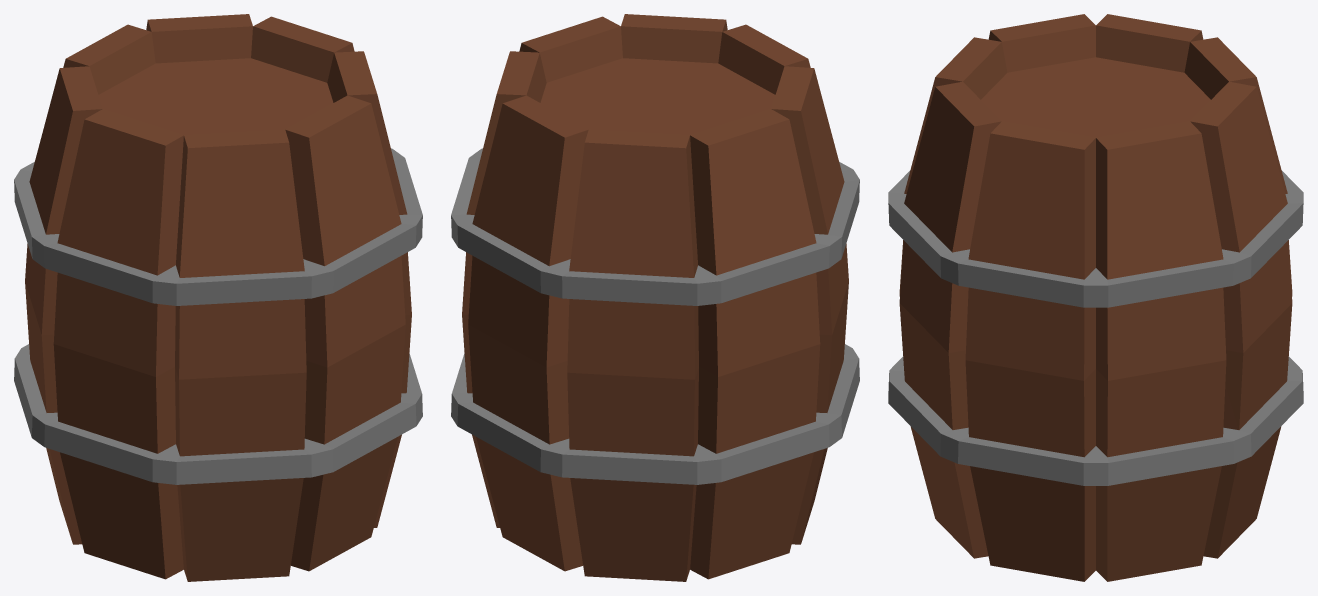
File: barrel.glb
3 views of the same model, side by side, from view 1: azimuth 30°, elevation 25°; view 2: azimuth 150°, elevation 25°; view 3: azimuth 270°, elevation 25° (orthographic).
Parts seen in each view (by area): view 1: Barrel; view 2: Barrel; view 3: Barrel.
Boxes of the visible parts, bbox=[...] form: Barrel: bbox=[14, 14, 422, 581]; Barrel: bbox=[451, 14, 859, 581]; Barrel: bbox=[888, 14, 1303, 581].
Bounding box in the file's own units: 0.5216 × 0.6 × 0.5216.
